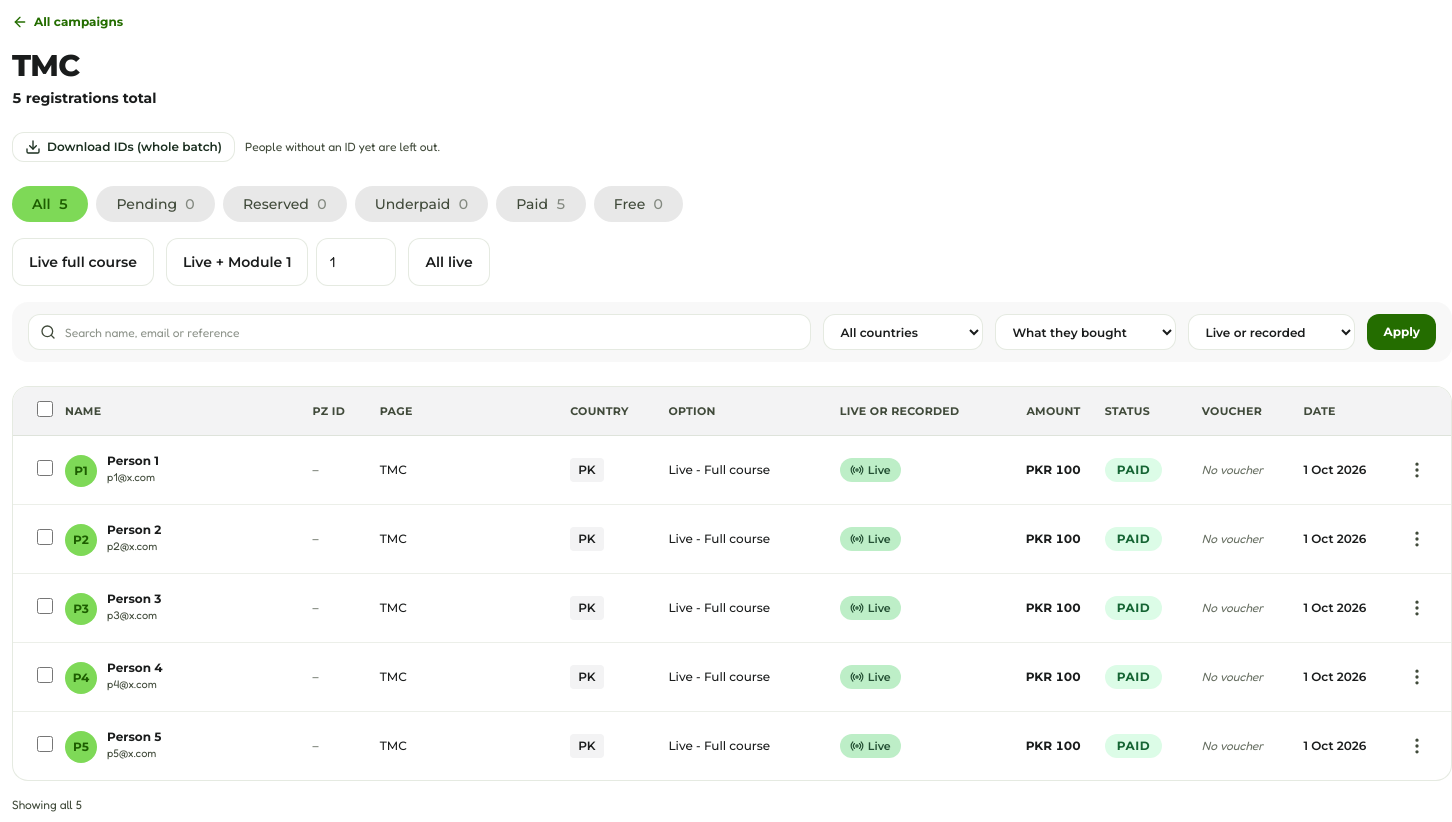
ID PDF button › shows the number ticked and changes as rows are ticked
Step 1. Click the checkbox named "Select Person 1" → (45, 468), box [37, 460, 53, 476]
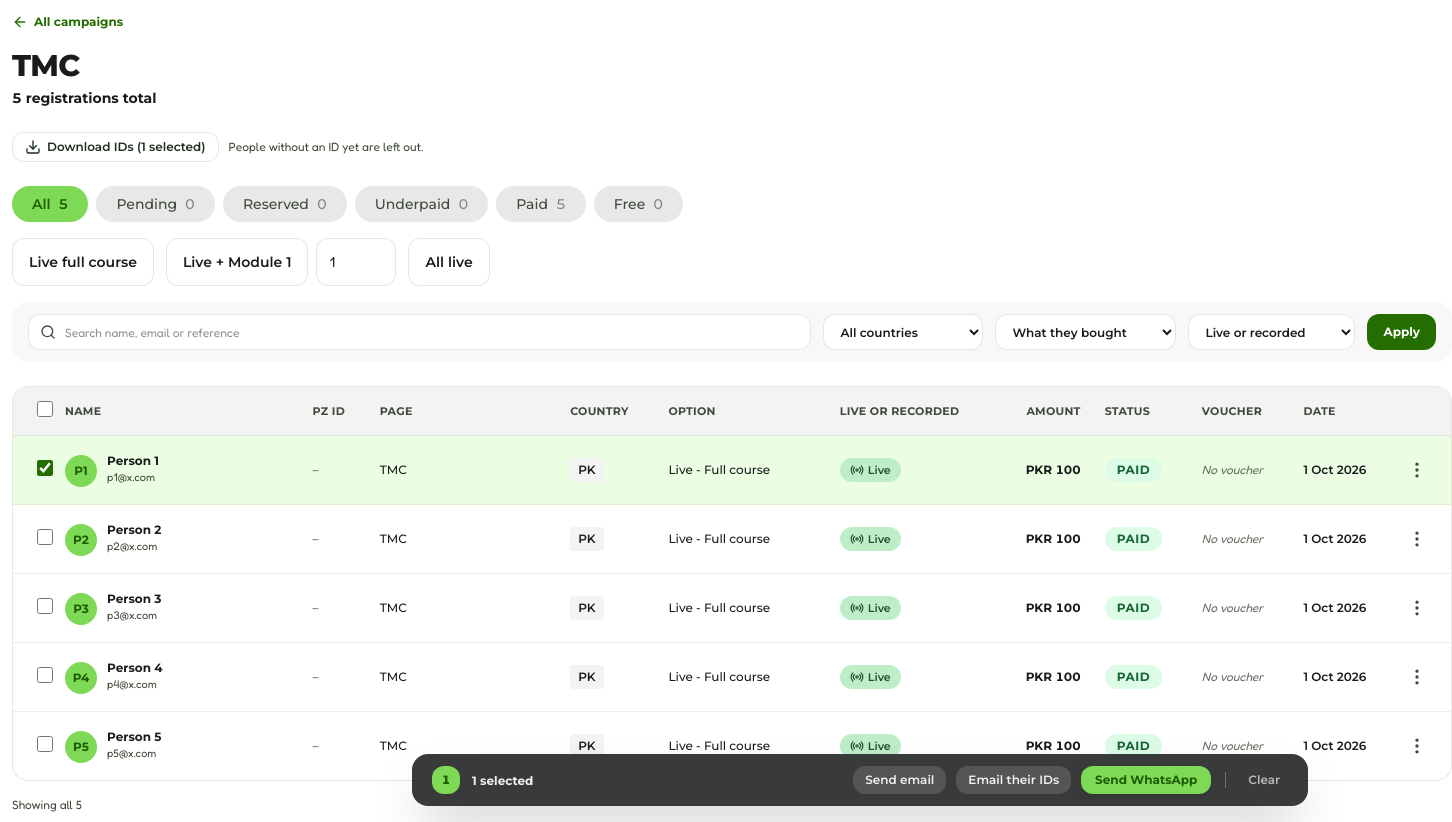
Check: the button "Download IDs (1 selected)" is shown, box [12, 132, 218, 162]
Step 2. Click the checkbox named "Select Person 2" → (45, 537), box [37, 529, 53, 545]
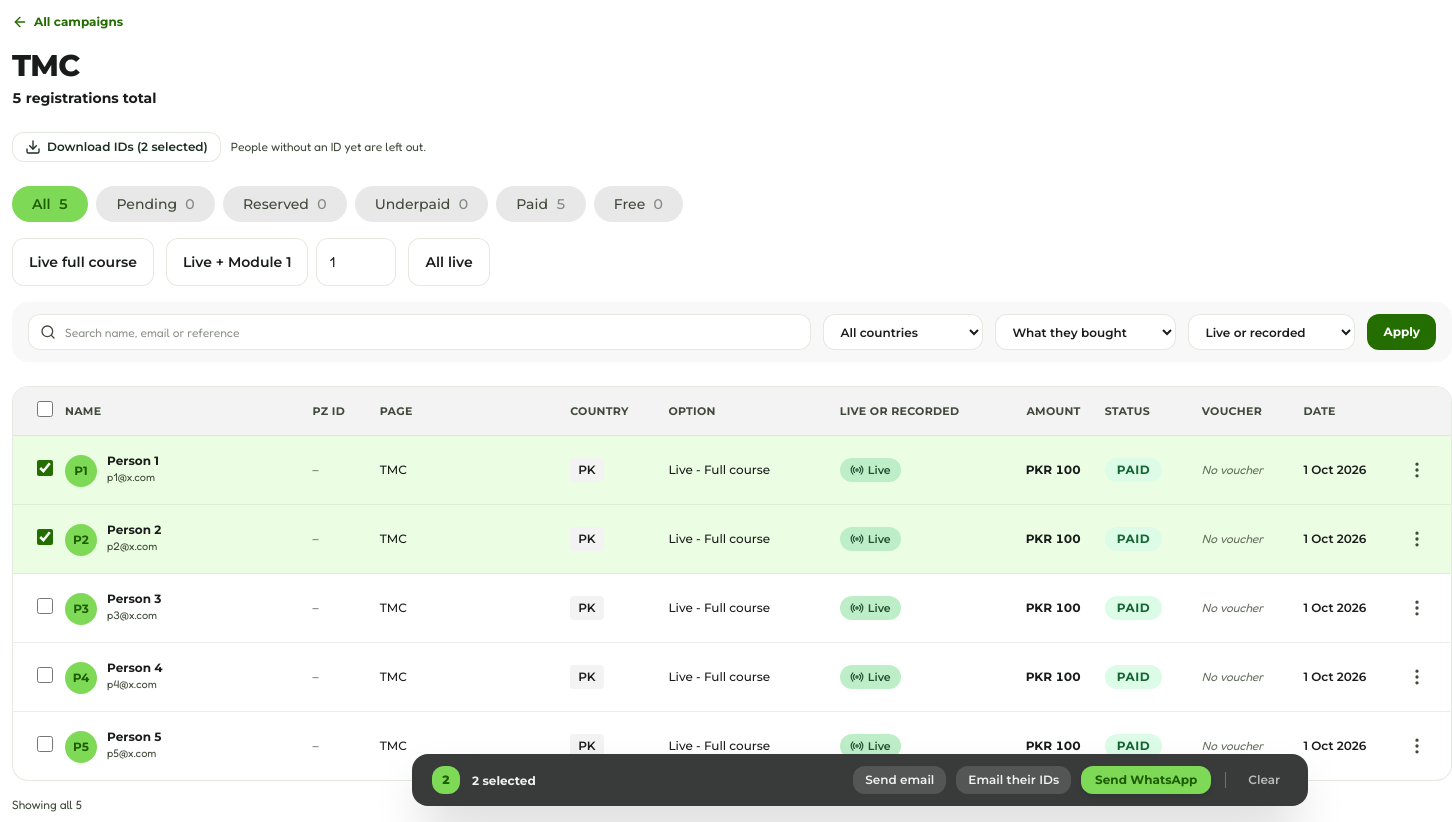
Step 3. Click the checkbox named "Select Person 3" → (45, 606), box [37, 598, 53, 614]
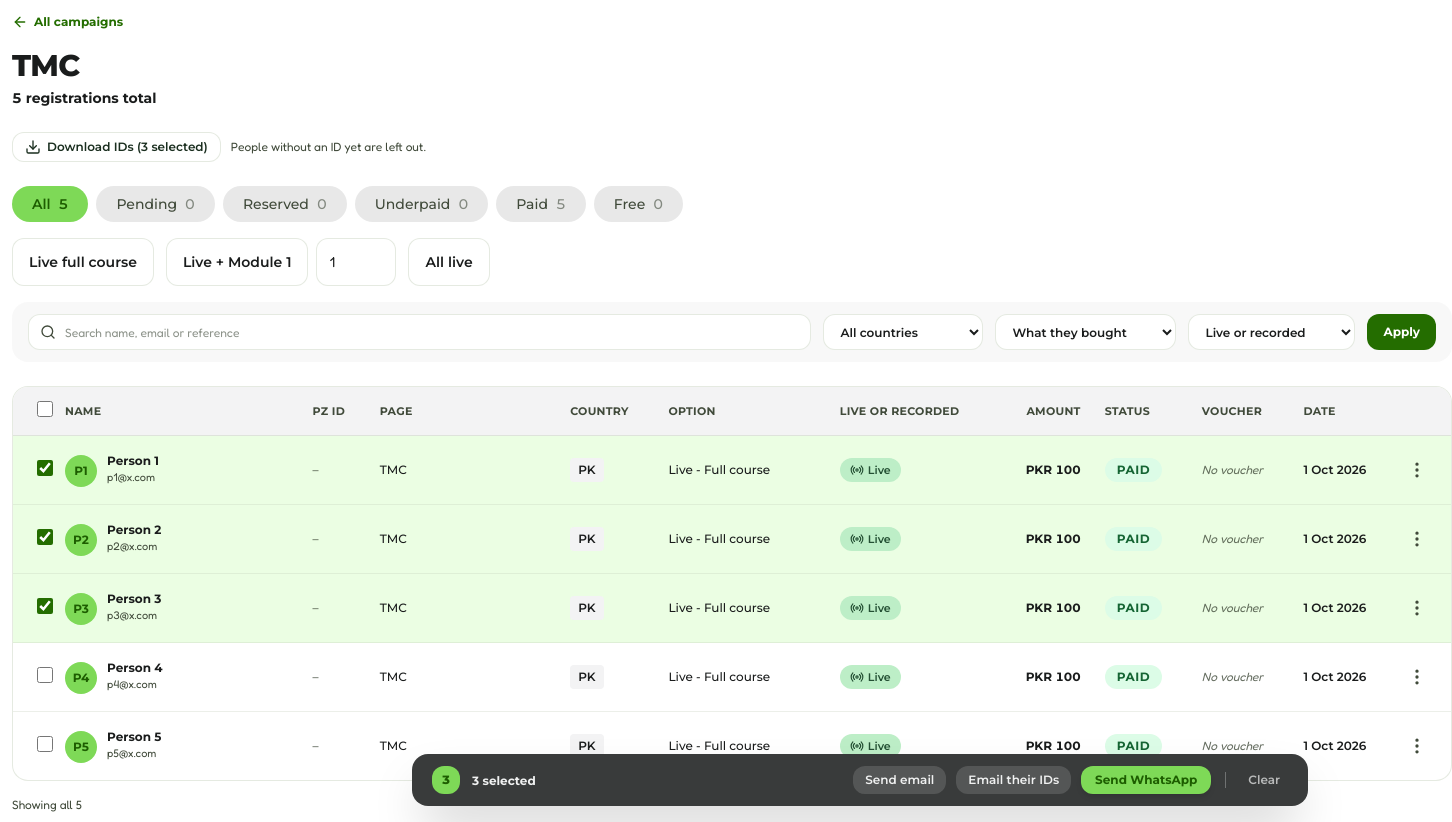
Check: the button "Download IDs (3 selected)" is shown, box [12, 132, 221, 162]
